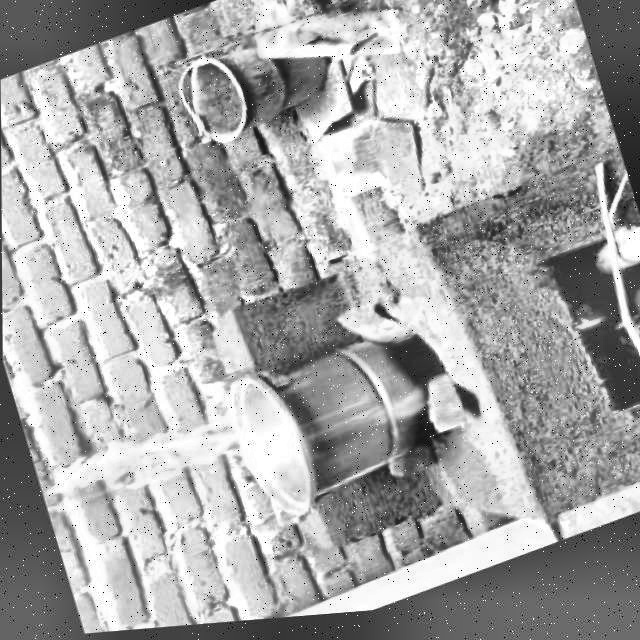Fire: (37, 377, 271, 538), (353, 387, 439, 451), (556, 318, 608, 354)
